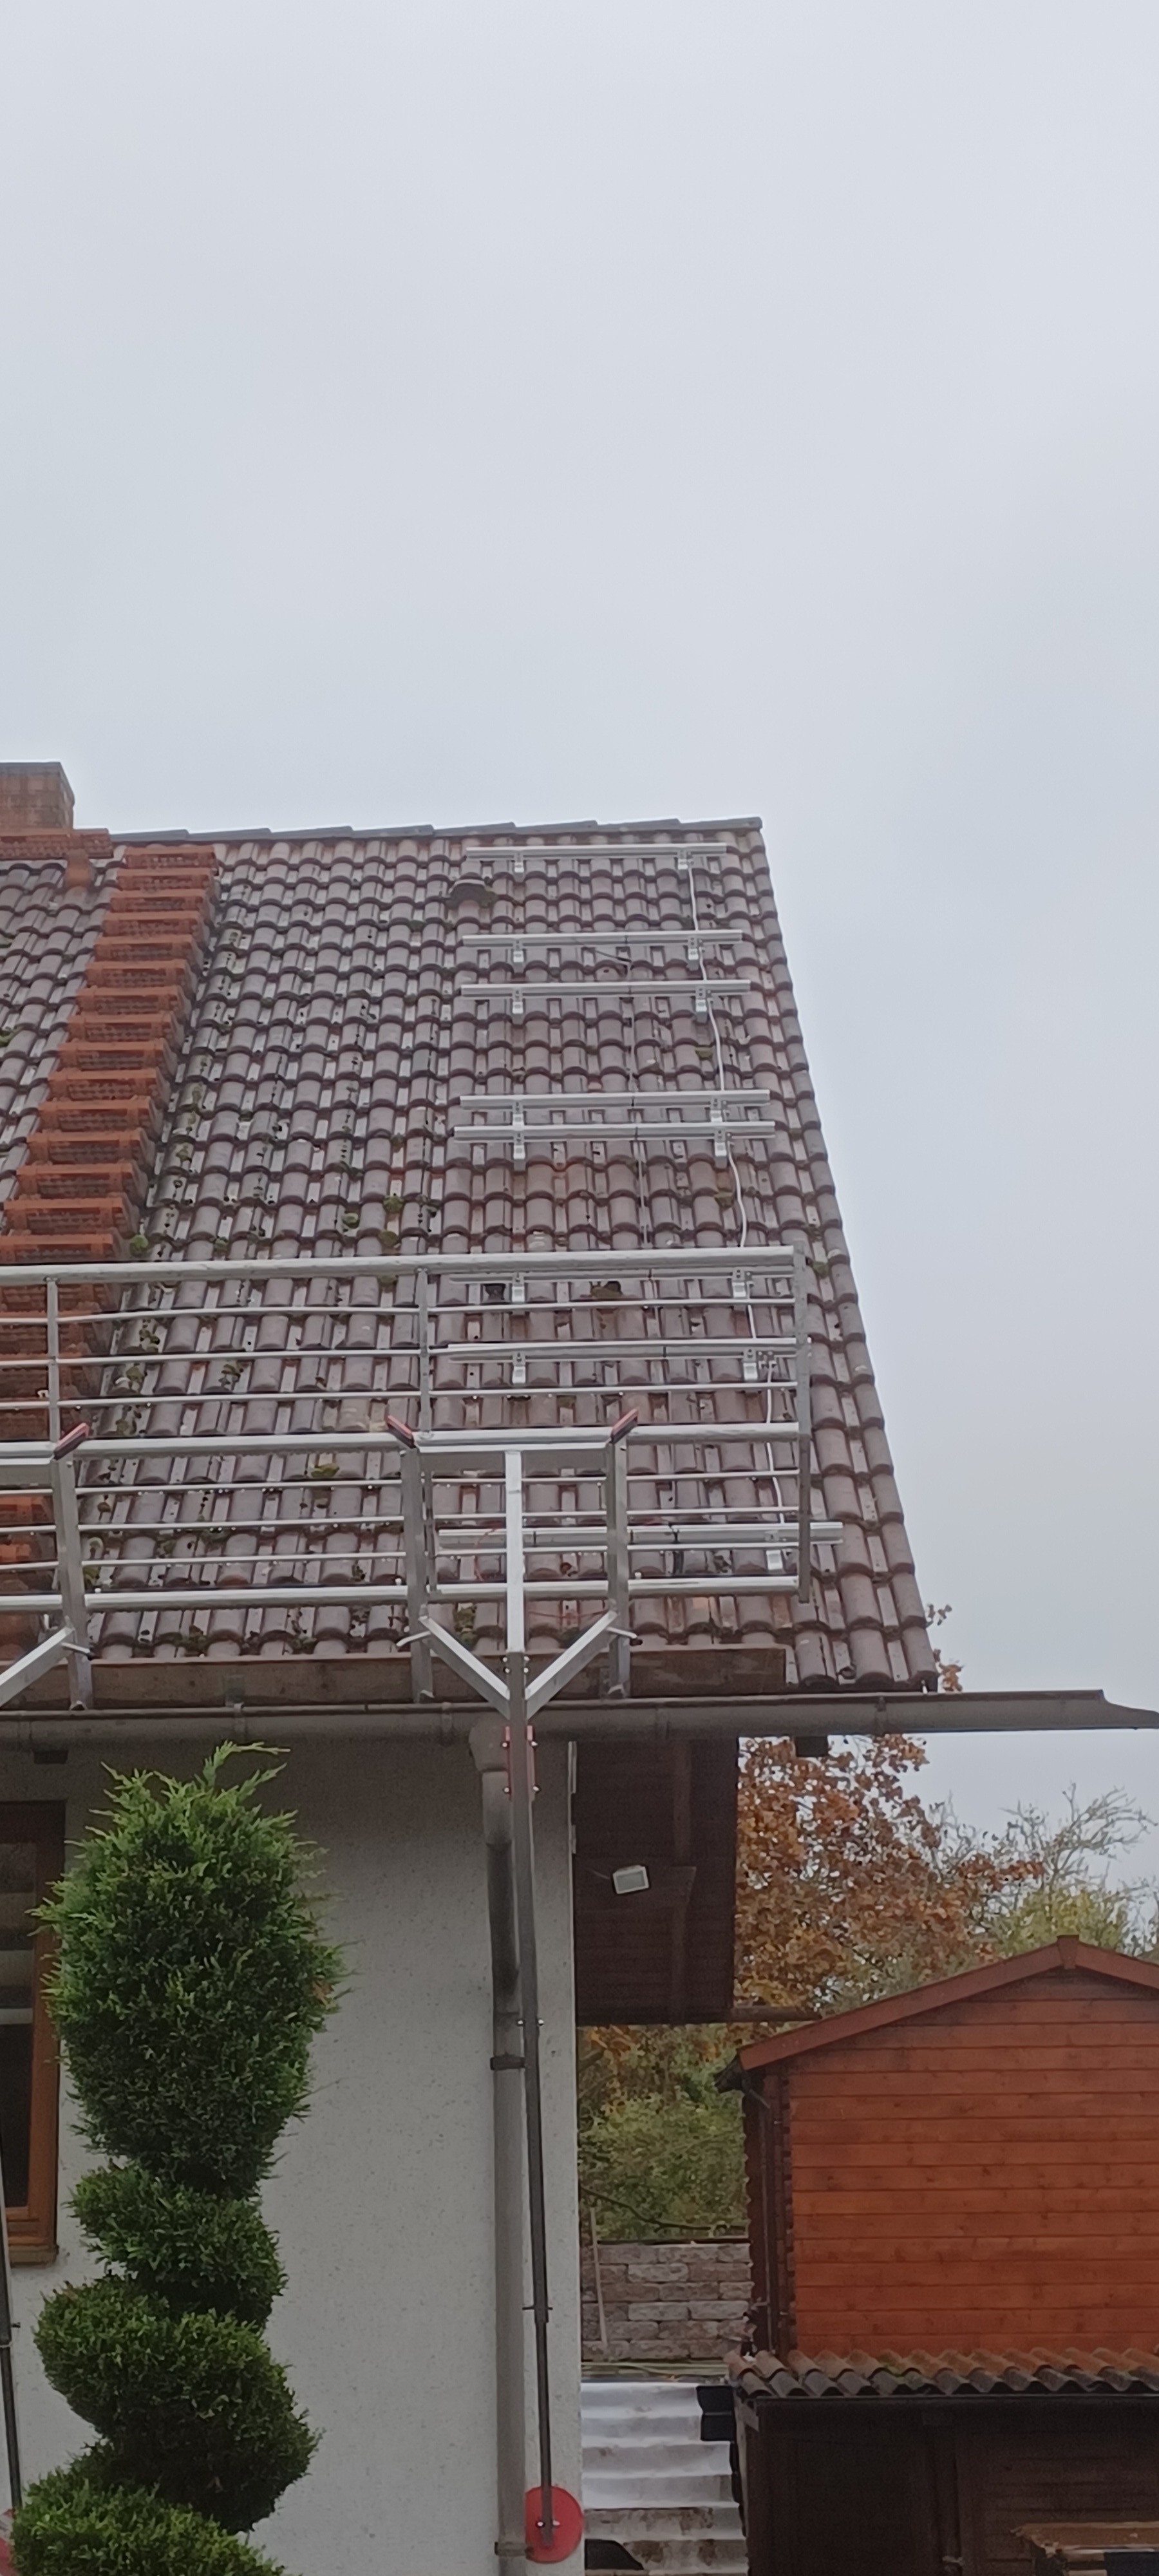hook: (763, 1529, 783, 1571), (732, 1267, 747, 1313), (744, 1347, 758, 1393), (512, 1350, 525, 1398), (714, 1127, 727, 1170), (512, 1273, 524, 1316), (514, 1130, 525, 1171), (512, 987, 524, 1025), (696, 986, 708, 1023), (514, 848, 525, 884), (688, 935, 699, 971), (514, 936, 524, 973), (711, 1094, 722, 1124), (678, 846, 688, 879), (512, 1099, 524, 1125)
